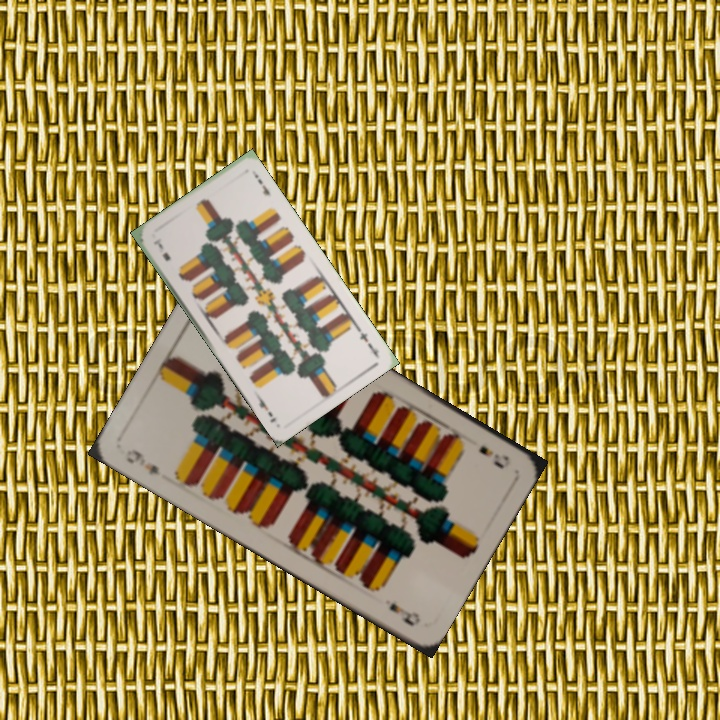E7: (352, 323, 381, 359), (150, 235, 173, 264)
E9: (121, 445, 163, 478), (474, 441, 512, 472)
